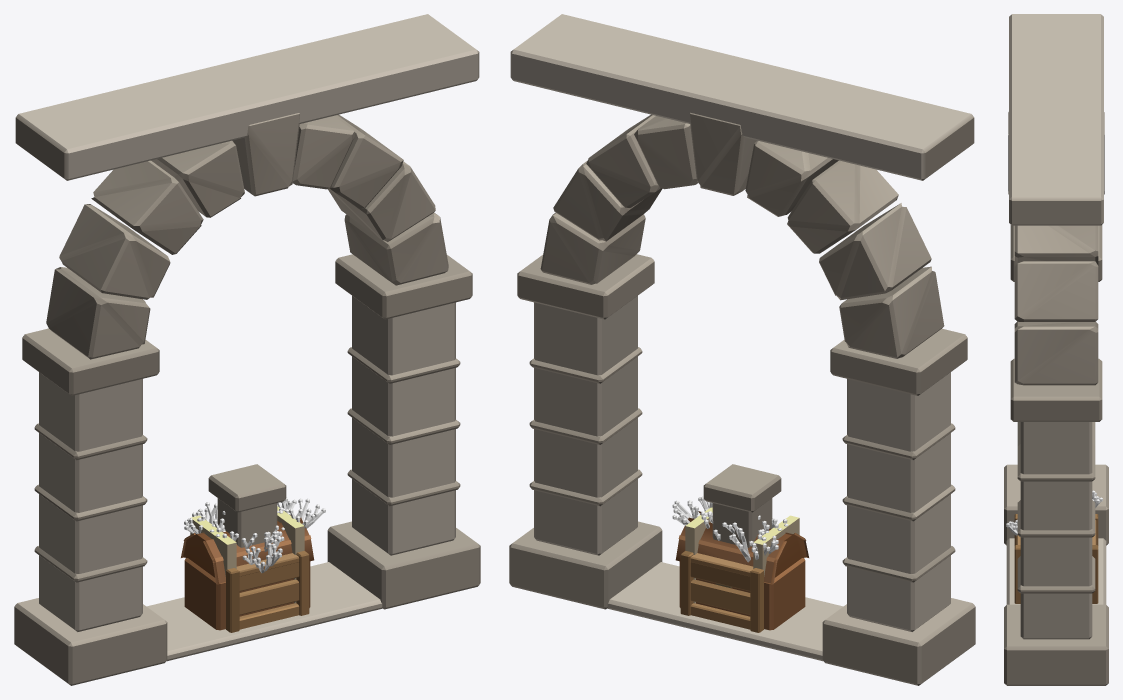
File: grotto-kit.glb
The picture shows the model from 3 angles, left to right: view 1: azimuth 30°, elevation 25°; view 2: azimuth 150°, elevation 25°; view 3: azimuth 270°, elevation 25°; orthographic projection. The views are drawn at different scales.
Visible parts, largest first — view 1: gate, crate, post, coral_bush, chest_body, chest_lid, chest_metal; view 2: gate, crate, post, chest_lid, chest_body, coral_bush, chest_metal; view 3: gate, crate, coral_bush.
Part boxes in pixels (x1,y1,x2,y2): gate: (14, 14, 480, 685); crate: (226, 551, 309, 632); post: (208, 464, 286, 547); coral_bush: (184, 497, 325, 573); chest_body: (184, 558, 310, 630); chest_lid: (181, 515, 314, 584); chest_metal: (190, 506, 304, 603); gate: (509, 14, 975, 685); crate: (680, 551, 763, 632); post: (703, 464, 781, 547); chest_lid: (675, 511, 808, 584); chest_body: (679, 558, 805, 630); coral_bush: (672, 496, 788, 562); chest_metal: (685, 507, 799, 603); gate: (1004, 14, 1108, 685); crate: (1014, 514, 1098, 603); coral_bush: (1006, 490, 1102, 536).
Size of the model in its own units: 4.4 by 5.44 by 1.05.
